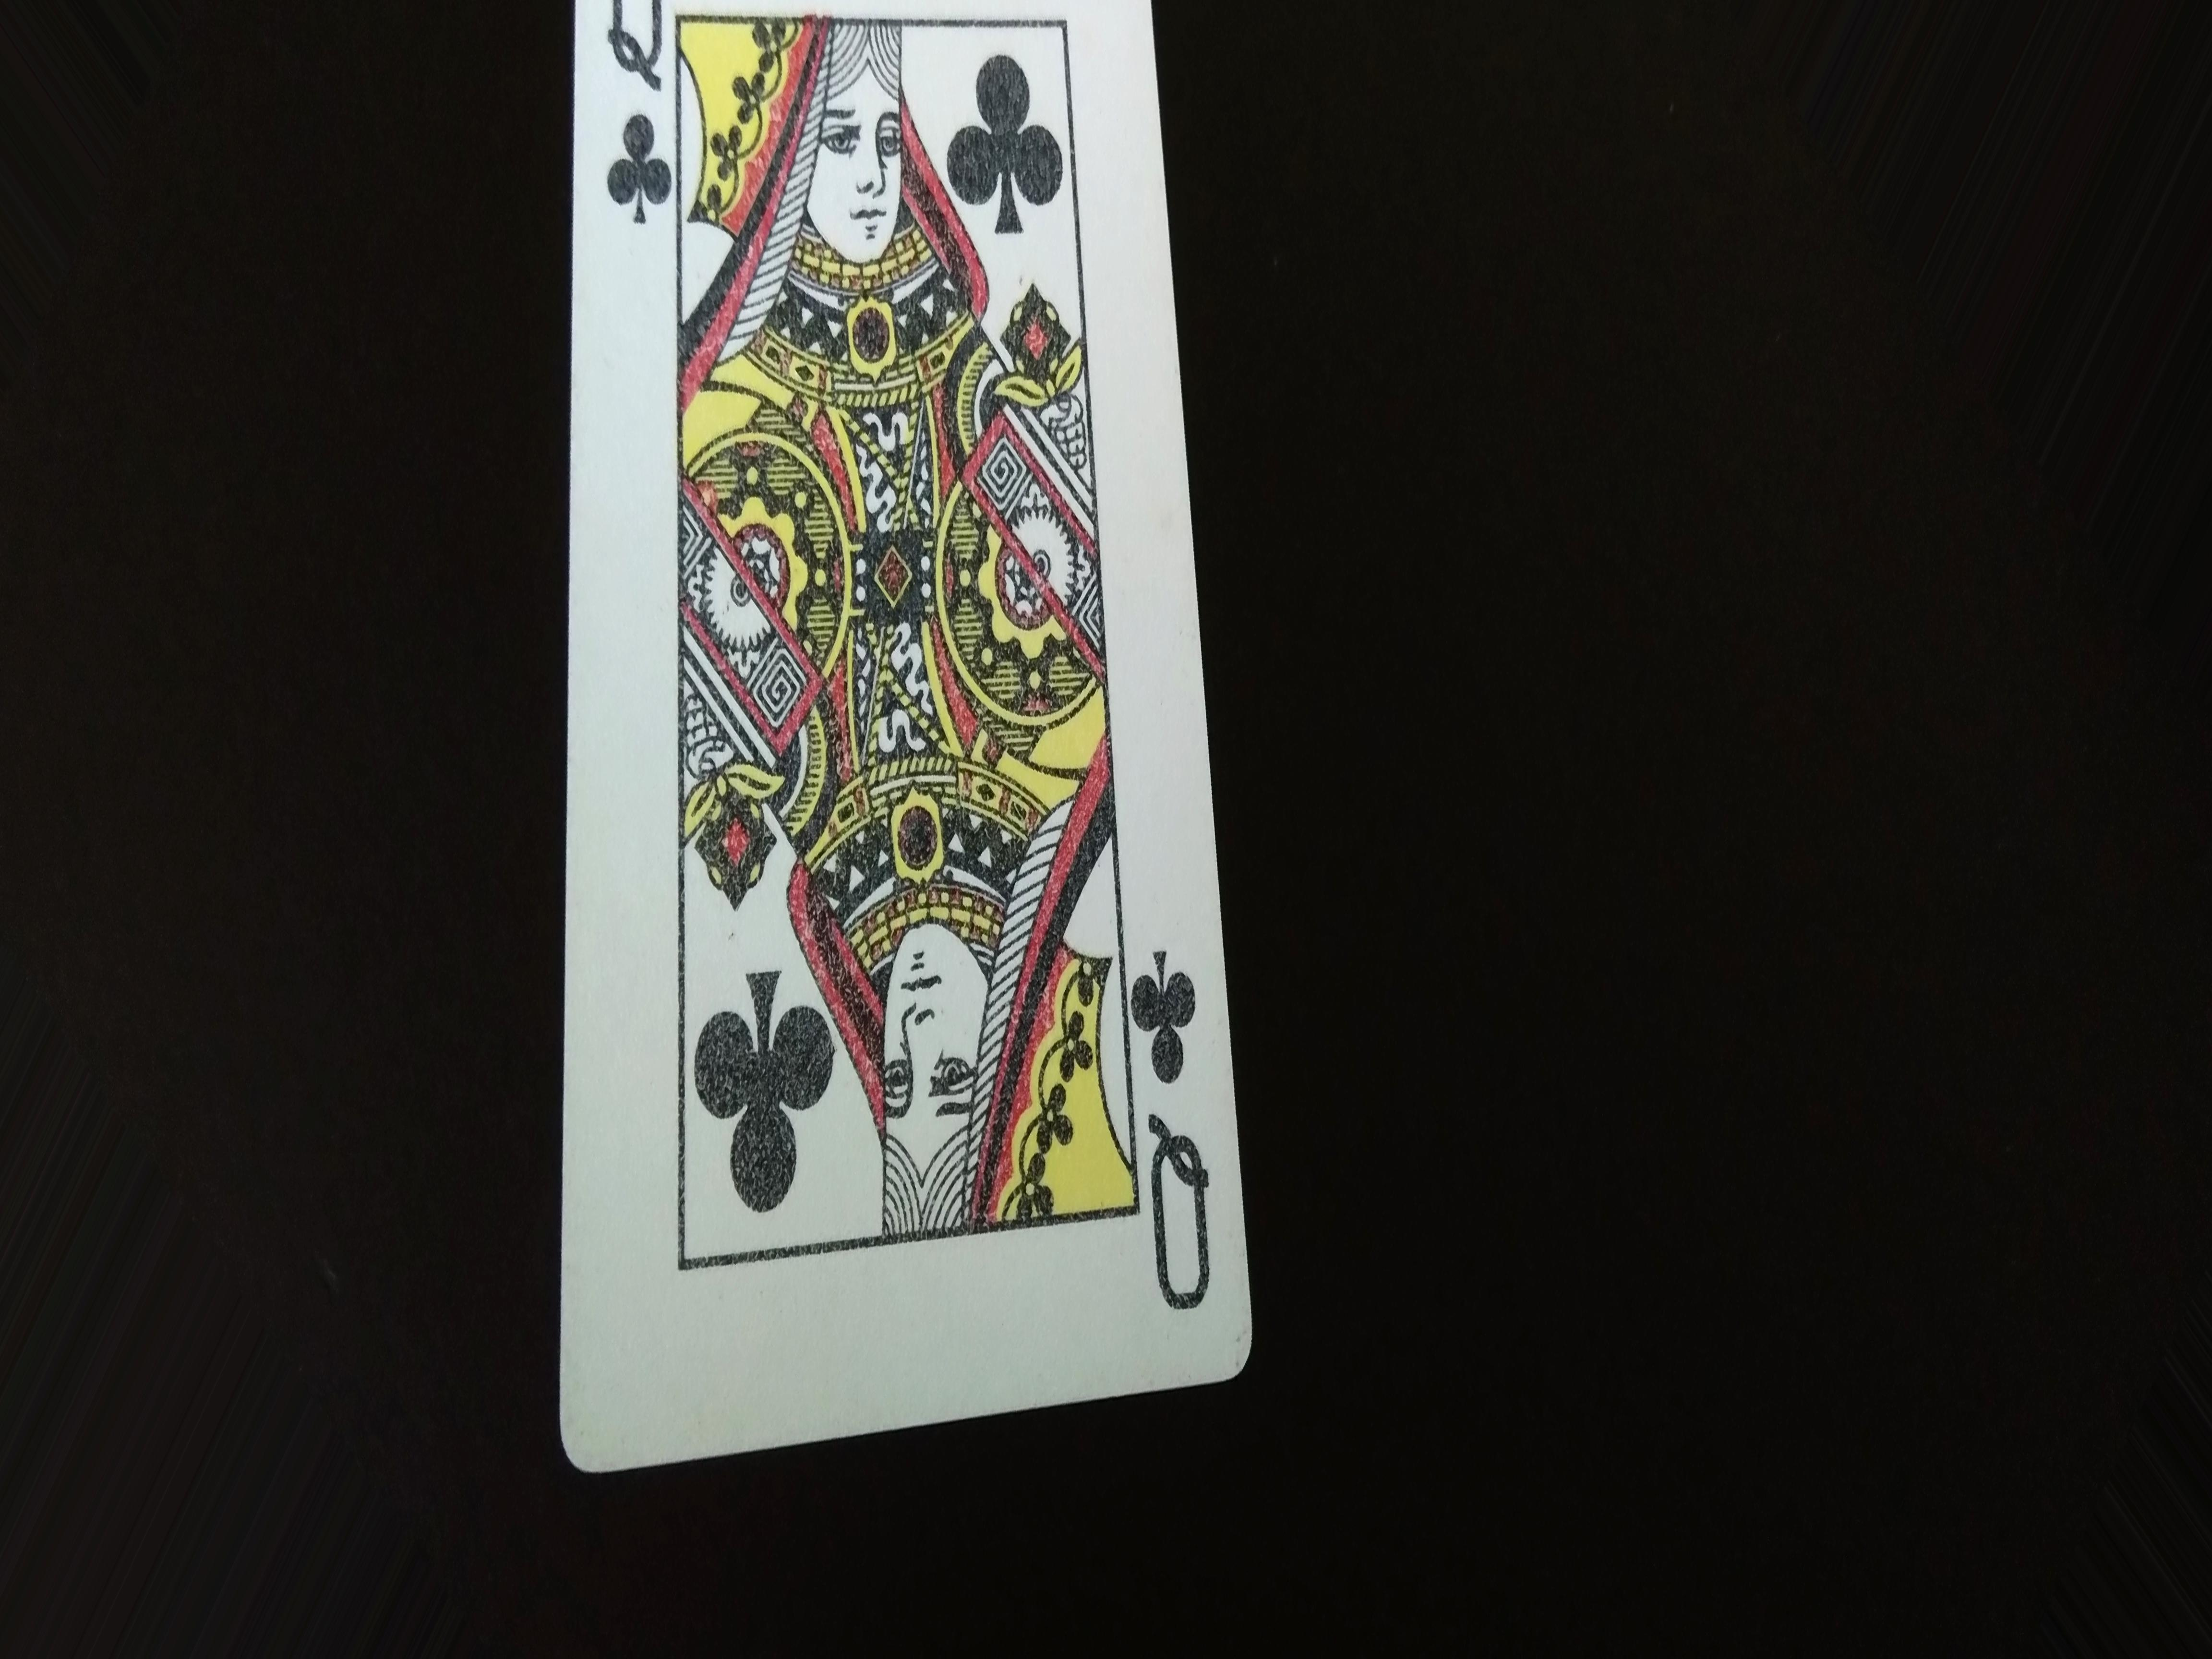QC: (1129, 932, 1245, 1371)
